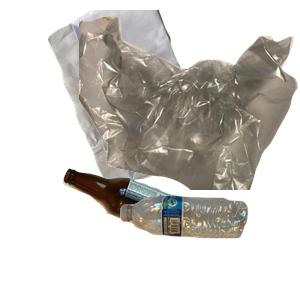glass: (60, 166, 241, 300)
paper: (45, 10, 251, 190)
plastic: (118, 193, 300, 300)
trash: (79, 14, 300, 194)
